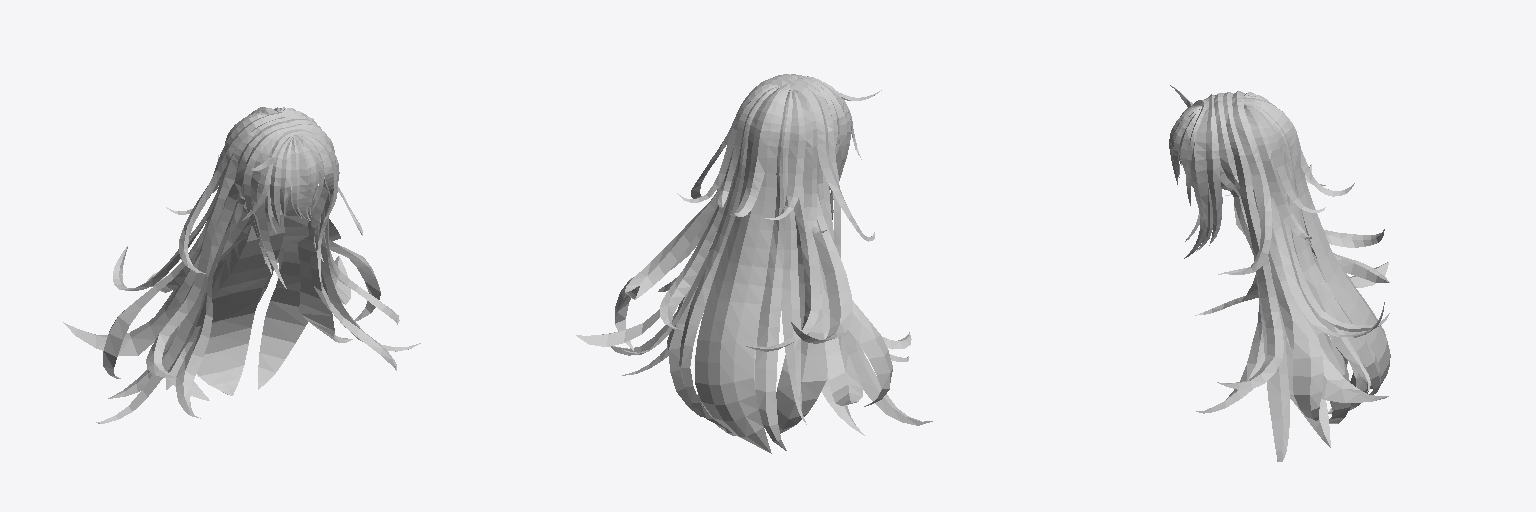
The model's file is hair (2).obj.
3 renders of one model, left to right at view 1: azimuth 30°, elevation 25°; view 2: azimuth 150°, elevation 25°; view 3: azimuth 270°, elevation 25°, orthographic.
Parts seen in each view (by area): view 1: H_Back_2_mtr_G11_V100.029, H_Side_0_mtr_G11_V100.026, H_Front_1_mtr_G11_V100.025, H_Back_1_mtr_G11_V100.028, H_Front_0_mtr_G11_V100.024, H_Back_0_mtr_G11_V100.027; view 2: H_Back_0_mtr_G11_V100.027, H_Back_1_mtr_G11_V100.028, H_Side_0_mtr_G11_V100.026, H_Back_2_mtr_G11_V100.029, H_Front_1_mtr_G11_V100.025; view 3: H_Back_0_mtr_G11_V100.027, H_Side_0_mtr_G11_V100.026, H_Back_1_mtr_G11_V100.028, H_Front_1_mtr_G11_V100.025, H_Back_2_mtr_G11_V100.029, H_Front_0_mtr_G11_V100.024.
Part boxes in pixels (left/top/right/bottom): H_Back_2_mtr_G11_V100.029: left=108, top=193, right=352, bottom=400; H_Side_0_mtr_G11_V100.026: left=96, top=115, right=420, bottom=423; H_Front_1_mtr_G11_V100.025: left=176, top=124, right=396, bottom=418; H_Back_1_mtr_G11_V100.028: left=63, top=175, right=350, bottom=355; H_Front_0_mtr_G11_V100.024: left=250, top=134, right=333, bottom=225; H_Back_0_mtr_G11_V100.027: left=156, top=107, right=362, bottom=389; H_Back_0_mtr_G11_V100.027: left=622, top=80, right=874, bottom=453; H_Back_1_mtr_G11_V100.028: left=576, top=163, right=862, bottom=405; H_Side_0_mtr_G11_V100.026: left=611, top=74, right=932, bottom=425; H_Back_2_mtr_G11_V100.029: left=622, top=216, right=864, bottom=435; H_Front_1_mtr_G11_V100.025: left=778, top=74, right=908, bottom=361; H_Back_0_mtr_G11_V100.027: left=1224, top=91, right=1390, bottom=394; H_Side_0_mtr_G11_V100.026: left=1214, top=92, right=1323, bottom=461; H_Back_1_mtr_G11_V100.028: left=1248, top=164, right=1389, bottom=402; H_Front_1_mtr_G11_V100.025: left=1184, top=94, right=1264, bottom=413; H_Back_2_mtr_G11_V100.029: left=1234, top=202, right=1371, bottom=447; H_Front_0_mtr_G11_V100.024: left=1169, top=85, right=1201, bottom=187.
Bounding box in the file's own units: 0.7486 × 0.688 × 0.4364.